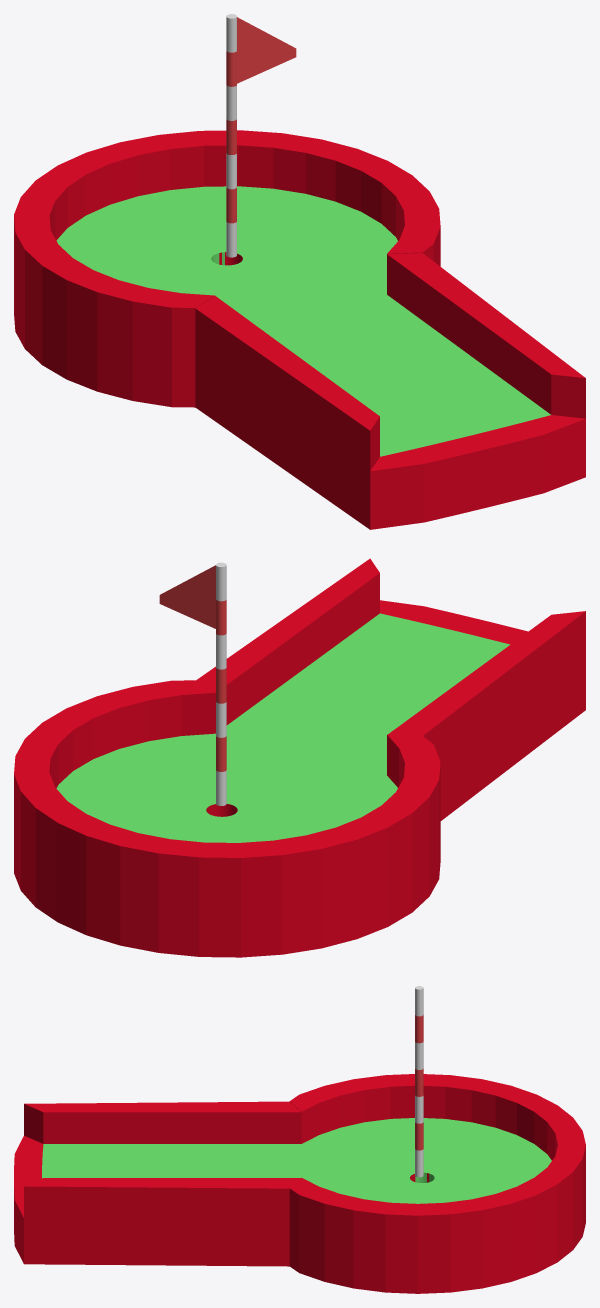
File: Finish.fbx
The picture shows the model from 3 angles, top to bottom: view 1: azimuth 30°, elevation 25°; view 2: azimuth 150°, elevation 25°; view 3: azimuth 270°, elevation 25°; orthographic projection. The views are drawn at different scales.
Parts seen in each view (by area): view 1: Circle, Cylinder; view 2: Circle, Cylinder; view 3: Circle, Cylinder.
Part boxes in pixels (box(x1,y1,x2,y2)): Circle: box(14, 130, 585, 529); Cylinder: box(226, 14, 296, 257); Circle: box(14, 558, 585, 957); Cylinder: box(159, 562, 226, 805); Circle: box(14, 1074, 585, 1293); Cylinder: box(415, 986, 423, 1177).
Bounding box in the file's own units: 951 × 742 × 1620.
